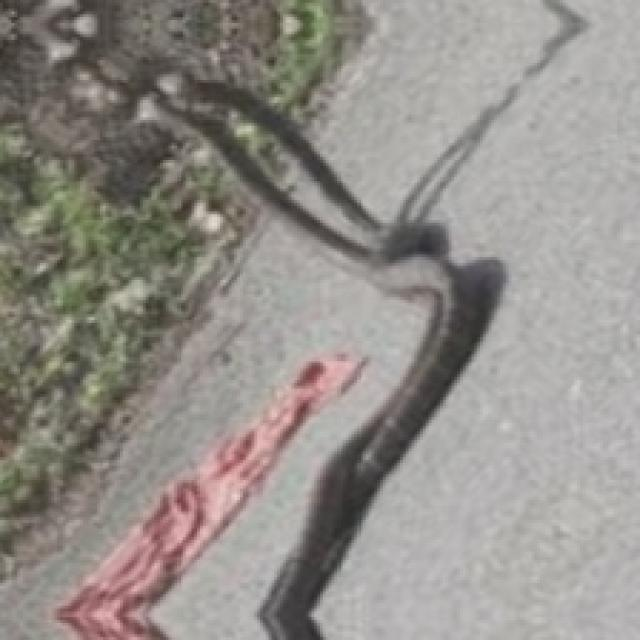king cobra: (260, 0, 637, 637), (311, 0, 637, 637), (0, 211, 426, 637), (309, 0, 554, 214), (311, 0, 529, 211), (154, 557, 271, 637)
